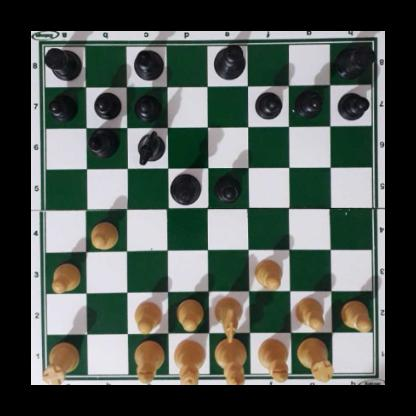black-bishop: (132, 47, 165, 80), (86, 128, 120, 158)
black-king: (215, 44, 245, 80)
black-knight: (137, 129, 164, 162)
black-pawn: (337, 90, 368, 120), (212, 173, 242, 203), (254, 89, 282, 119), (48, 92, 77, 120), (294, 89, 323, 117), (93, 90, 120, 120), (134, 91, 160, 120)
black-queen: (170, 172, 200, 205)
black-rook: (41, 44, 82, 80), (336, 40, 373, 78)
white-bishop: (257, 337, 288, 381), (134, 337, 162, 382)
white-king: (214, 336, 246, 384)
white-knight: (213, 295, 245, 342)
white-pawn: (294, 296, 326, 330), (340, 298, 371, 330), (88, 219, 120, 250), (252, 257, 282, 290), (133, 299, 162, 333), (50, 262, 80, 293), (175, 297, 203, 330)
white-queen: (172, 338, 205, 385)
white-rook: (296, 340, 335, 382), (44, 338, 78, 385)
